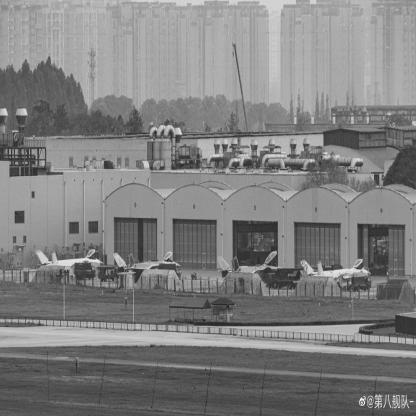J20: (301, 260, 373, 292), (36, 250, 105, 282), (114, 252, 183, 284), (218, 252, 285, 283), (238, 236, 269, 262)
